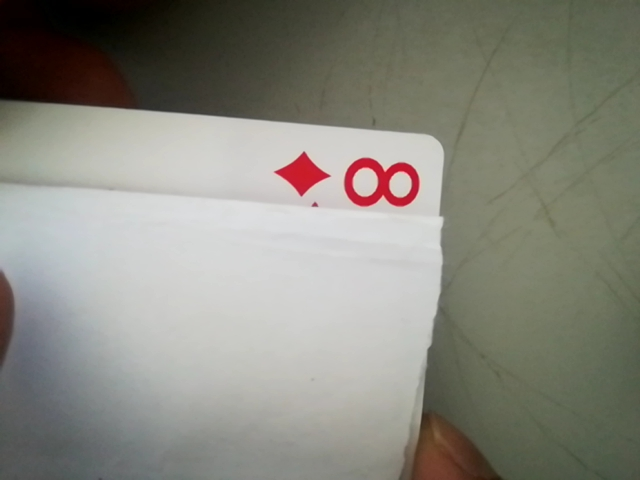fk 8: (287, 144, 439, 216)
